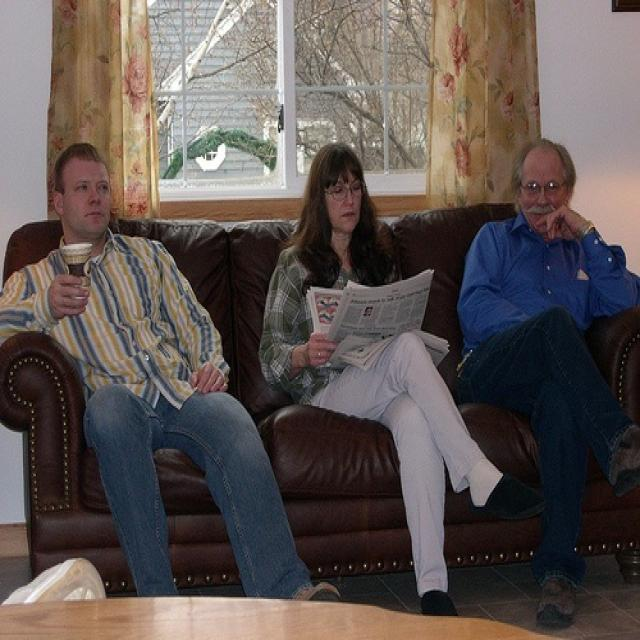sofa: (0, 196, 639, 594)
